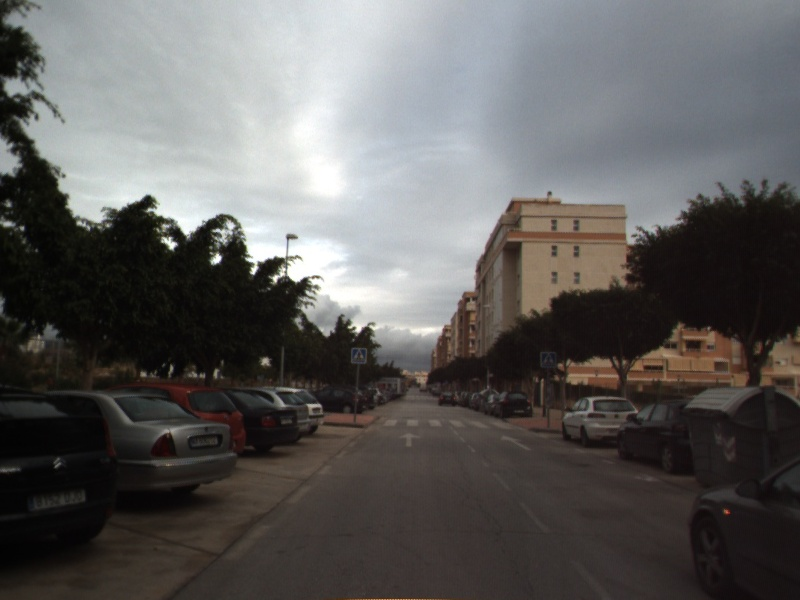STRAIGHT: (498, 433, 533, 452), (397, 430, 423, 448)
